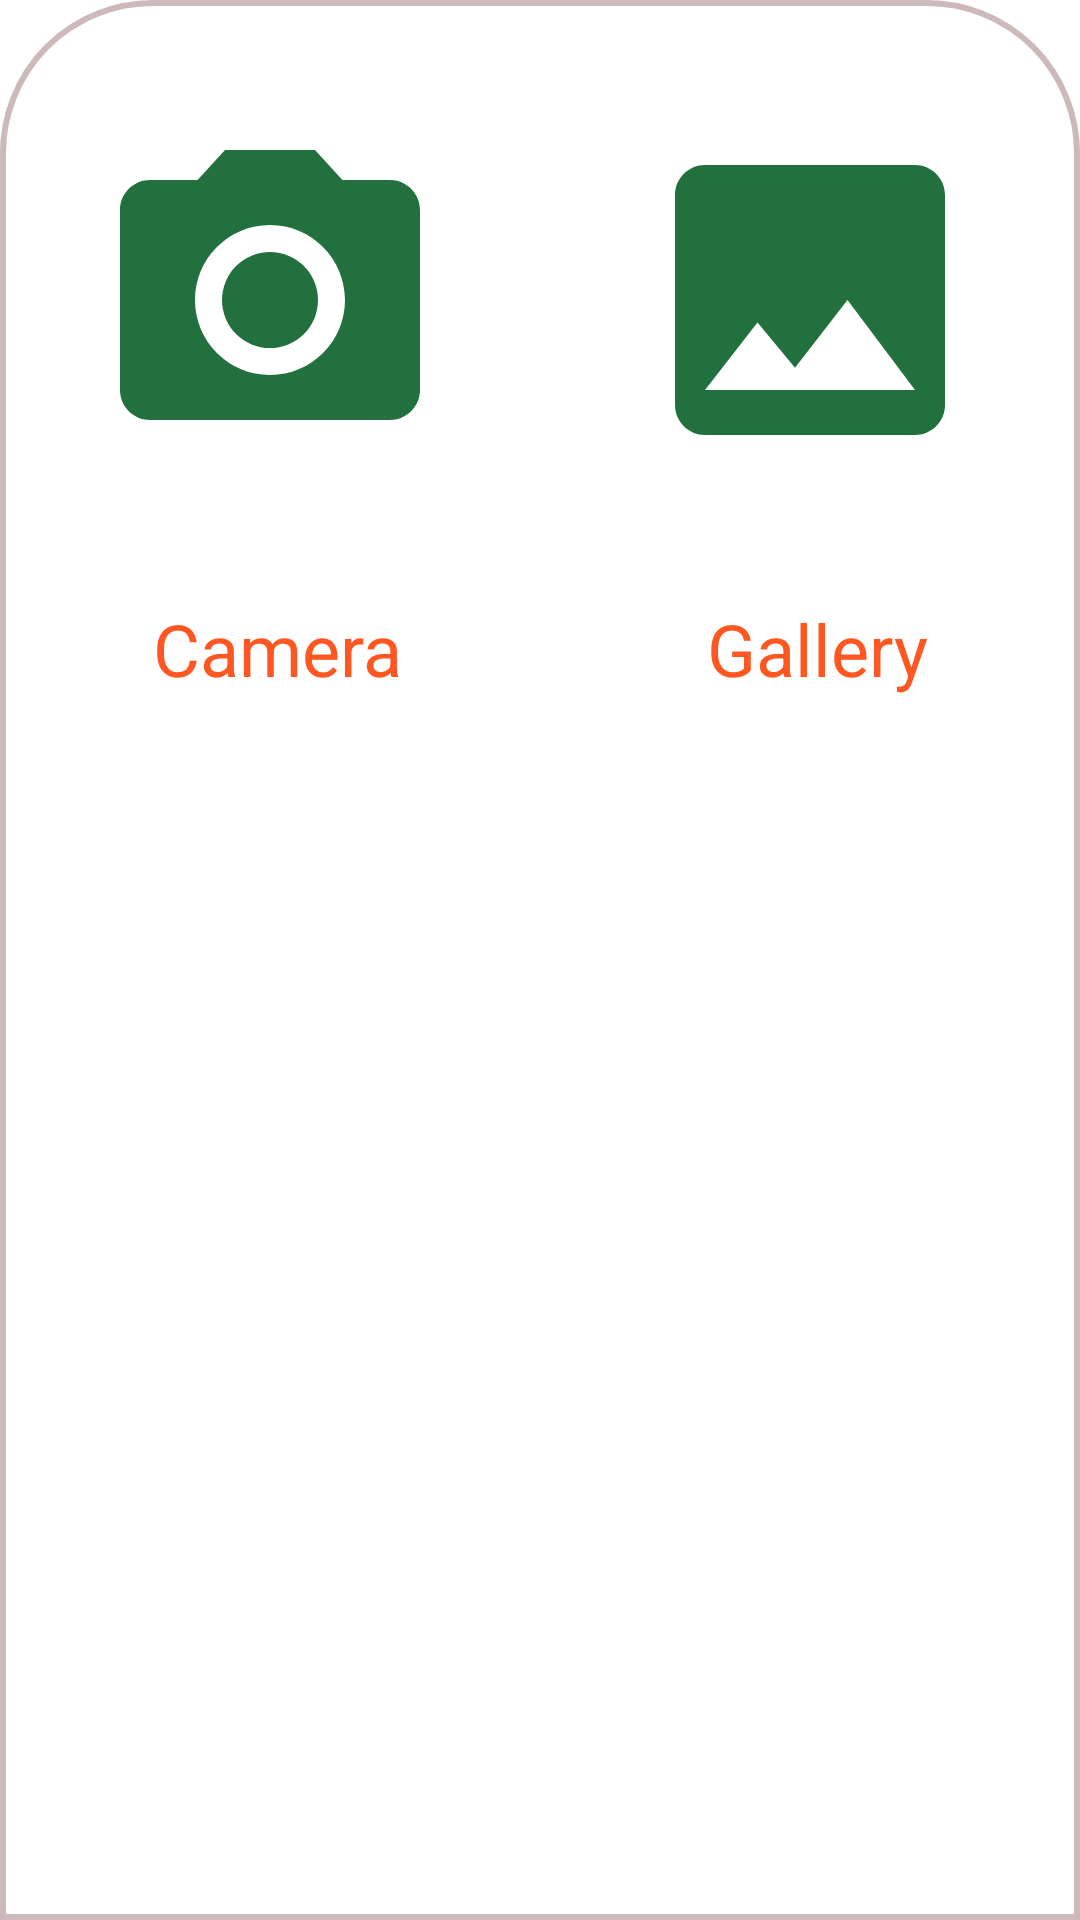

Locate icon controls on the screen. Image size 1080 x 1920, boxes as (x1, y1, x2, y2).
photo: (675, 165, 945, 435)
